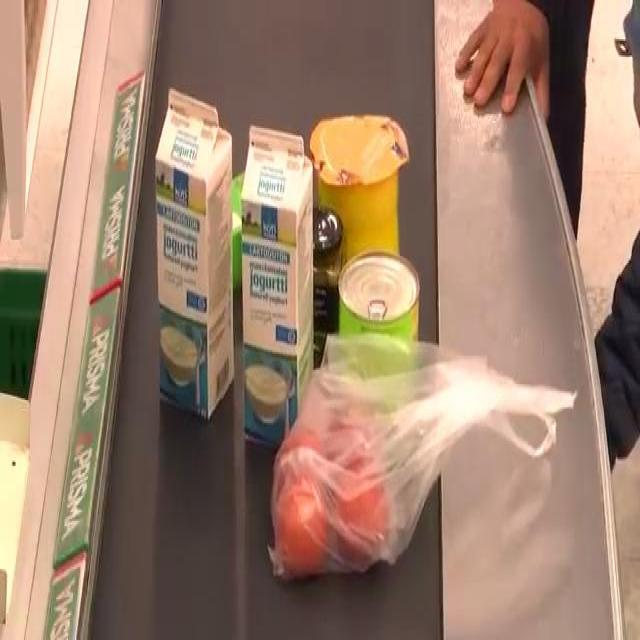food-box: (154, 93, 233, 420), (243, 125, 312, 451), (315, 121, 405, 277), (342, 244, 428, 372)
vegetable: (276, 346, 409, 588)
